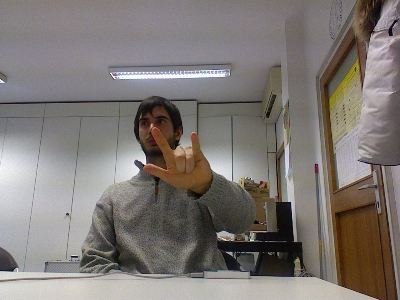我爱你: (141, 125, 212, 190)
